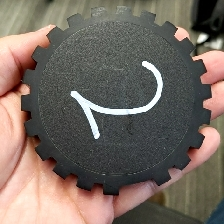gear: (19, 5, 213, 197)
missing: (102, 166, 172, 197)
